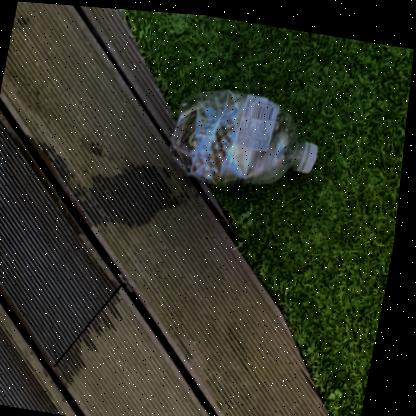Plastic: (174, 84, 322, 181)
